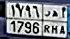1: (9, 4, 16, 32)
6: (32, 5, 39, 35)
7: (16, 4, 24, 34)
9: (24, 3, 31, 33)
A: (59, 7, 66, 36)
H: (51, 9, 58, 35)
R: (44, 9, 50, 35)
